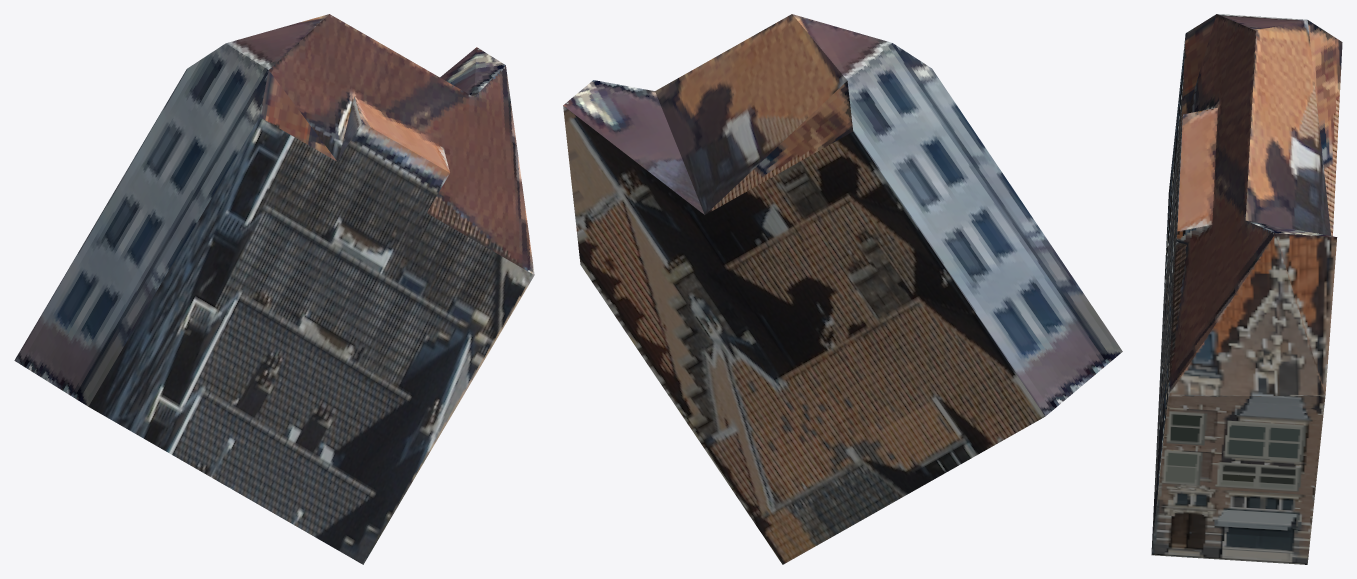
3 views of the same model, side by side, from view 1: azimuth 30°, elevation 25°; view 2: azimuth 150°, elevation 25°; view 3: azimuth 270°, elevation 25° (orthographic). The views are drawn at different scales.
Visible parts, largest first — view 1: BAG_0599100000671599 (×5); view 2: BAG_0599100000671599 (×4); view 3: BAG_0599100000671599 (×5).
Boxes of the visible parts, x1,y1,x2,y2 form: BAG_0599100000671599 (×5): (14, 14, 534, 564); BAG_0599100000671599 (×4): (563, 14, 1122, 564); BAG_0599100000671599 (×5): (1151, 14, 1342, 564).
Bounding box in the file's own units: 22.16 × 23.44 × 7.49.
5 materials, 5 textured.
